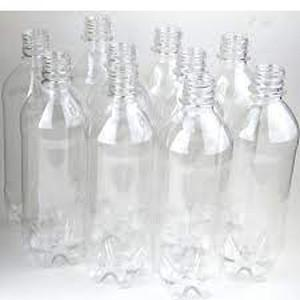Plastic: (154, 72, 230, 299), (88, 61, 157, 288)
